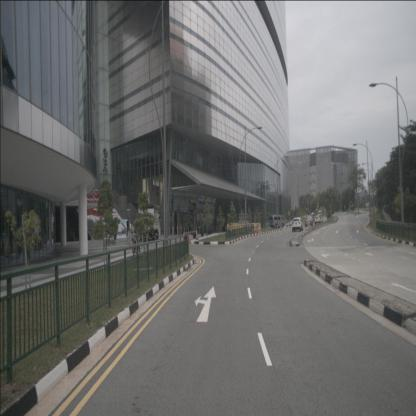cone: (188, 233, 192, 244), (182, 231, 186, 242), (195, 230, 199, 240), (256, 226, 259, 233)
